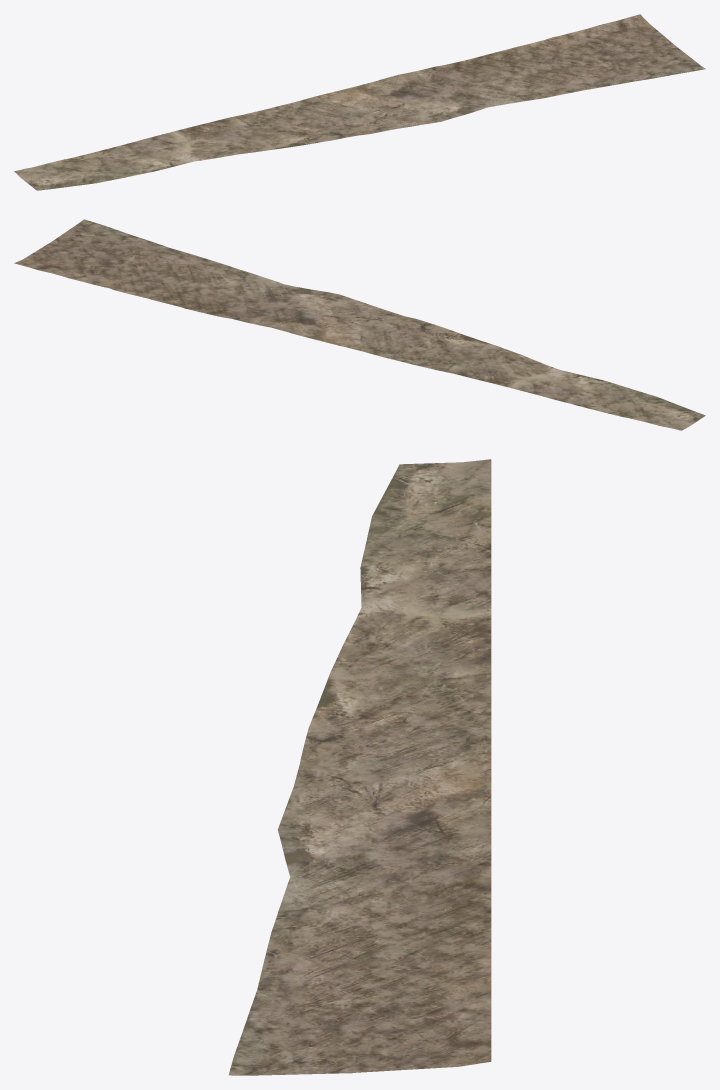
The model's file is CM_Terrain_24489844_6819589.fbx.
The picture shows the model from 3 angles, top to bottom: view 1: azimuth 30°, elevation 25°; view 2: azimuth 150°, elevation 25°; view 3: azimuth 270°, elevation 25°; orthographic projection. The views are drawn at different scales.
Parts seen in each view (by area): view 1: CM_Terrain_24489844_6819589_LOD0; view 2: CM_Terrain_24489844_6819589_LOD0; view 3: CM_Terrain_24489844_6819589_LOD0.
Boxes of the visible parts, x1,y1,x2,y2 form: CM_Terrain_24489844_6819589_LOD0: (14,14,705,190); CM_Terrain_24489844_6819589_LOD0: (14,219,705,430); CM_Terrain_24489844_6819589_LOD0: (229,459,491,1075).
Size of what is drawn, in the model's own units: 205 by 2.27 by 37.21.
